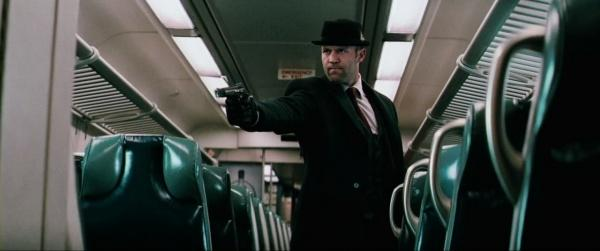Gun: (214, 84, 252, 107)
